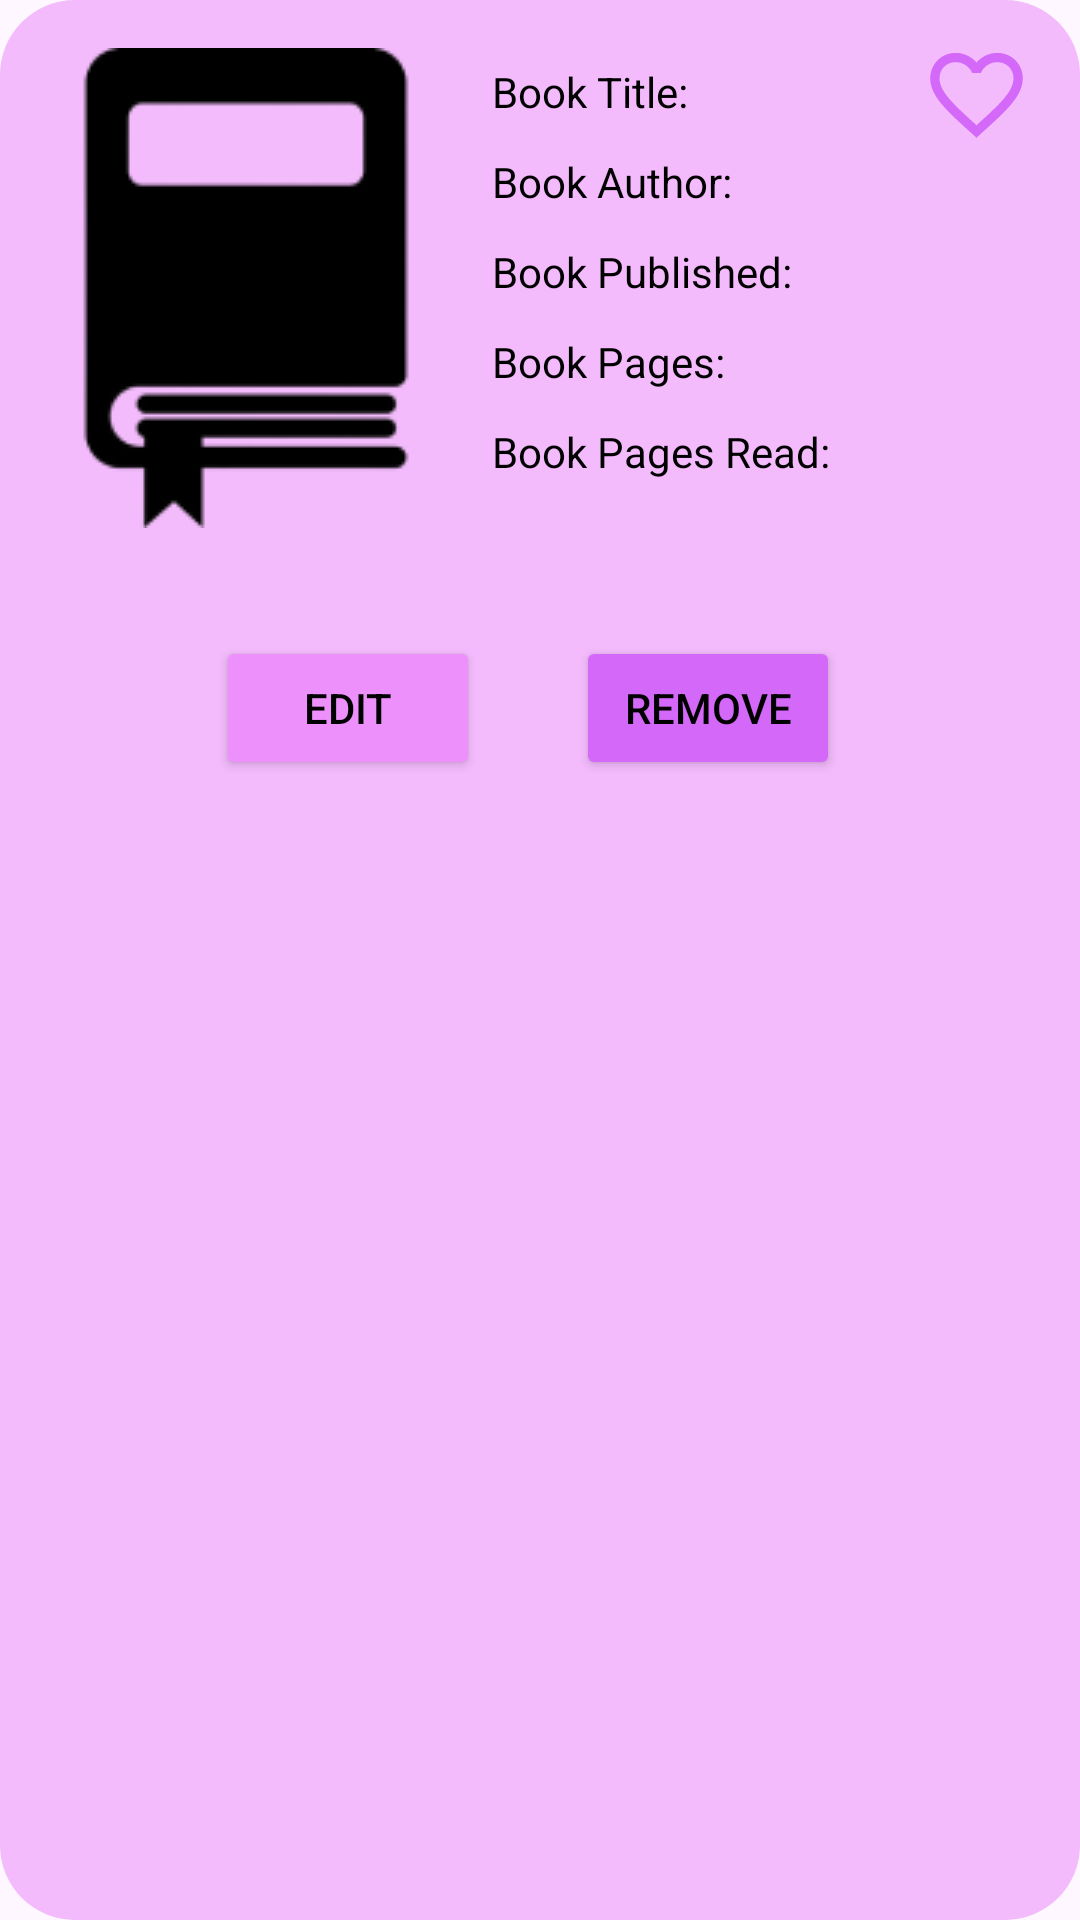

Named icons in this screenshot (1080w x 1920h) and their centers, [x,y]:
favorite border: [976,95]
